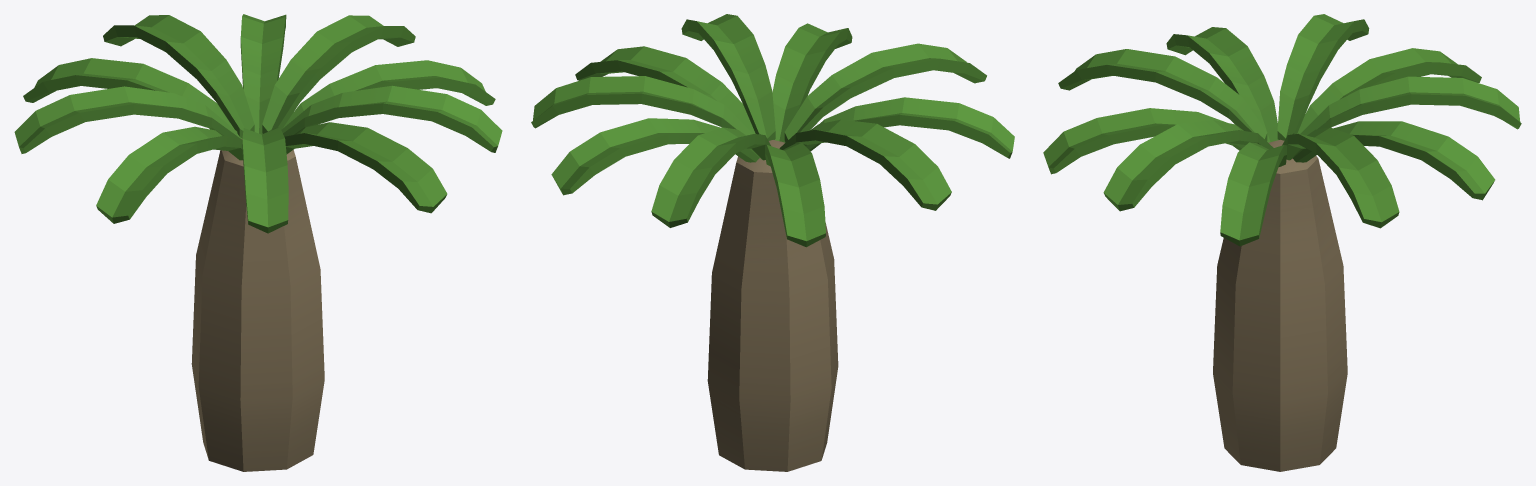
The model's file is Dino_Tree_Low_A.fbx.
3 renders of one model, left to right at view 1: azimuth 30°, elevation 25°; view 2: azimuth 150°, elevation 25°; view 3: azimuth 270°, elevation 25°, orthographic. The views are drawn at different scales.
Visible parts, largest first — view 1: Dino_Tree_Low_A_mesh; view 2: Dino_Tree_Low_A_mesh; view 3: Dino_Tree_Low_A_mesh.
Boxes of the visible parts, x1,y1,x2,y2 form: Dino_Tree_Low_A_mesh: (14,14,502,471); Dino_Tree_Low_A_mesh: (531,14,1014,471); Dino_Tree_Low_A_mesh: (1043,14,1521,471).
Bounding box in the file's own units: 34.52 × 28.68 × 34.67.
